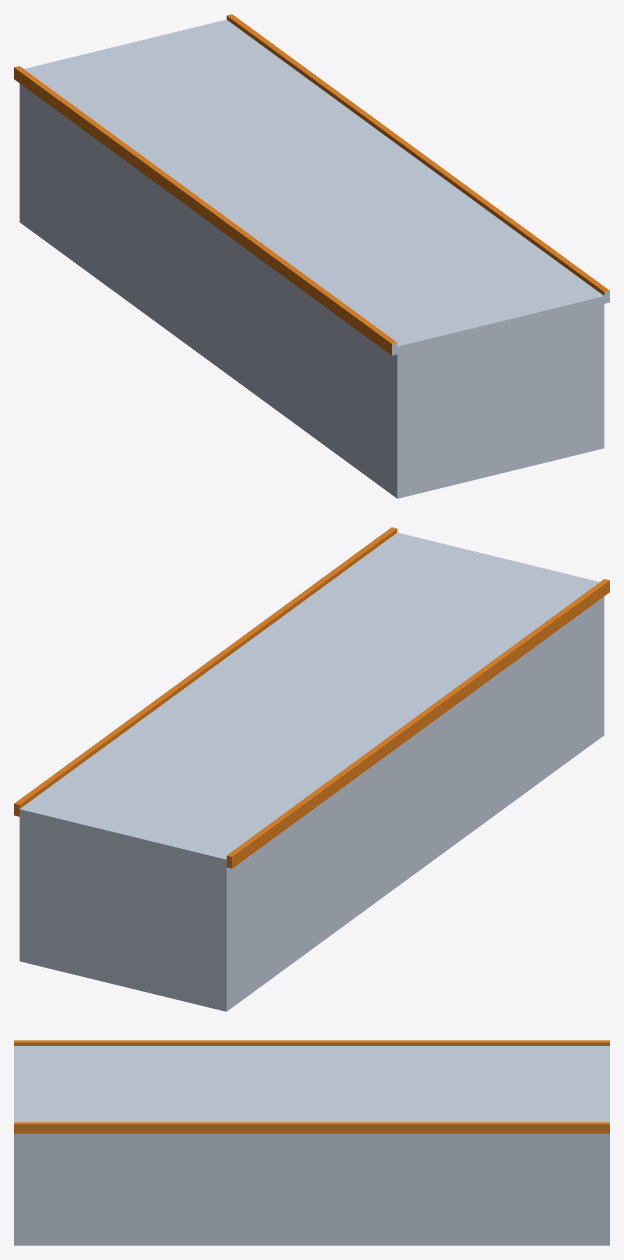
Rendered from Platform_1.fbx.
The picture shows the model from 3 angles, top to bottom: view 1: azimuth 30°, elevation 25°; view 2: azimuth 150°, elevation 25°; view 3: azimuth 270°, elevation 25°; orthographic projection. The views are drawn at different scales.
Parts seen in each view (by area): view 1: Platform_1; view 2: Platform_1; view 3: Platform_1.
Boxes of the visible parts, left/top/right/bottom form: Platform_1: left=14, top=14, right=609, bottom=498; Platform_1: left=14, top=527, right=609, bottom=1011; Platform_1: left=14, top=1040, right=609, bottom=1245.
Bounding box in the file's own units: 6 × 4.11 × 18.
